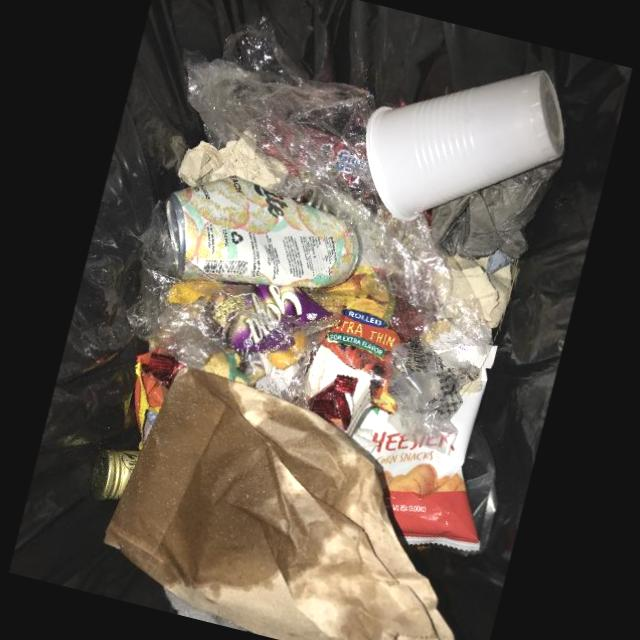bao_bi_thuc_pham: (351, 344, 497, 555), (299, 266, 399, 414), (167, 276, 331, 350)
giay: (102, 367, 455, 640)
hop_nhua: (364, 70, 564, 222)
nhom: (165, 176, 359, 289)
tui_ni_long: (184, 17, 490, 352)
